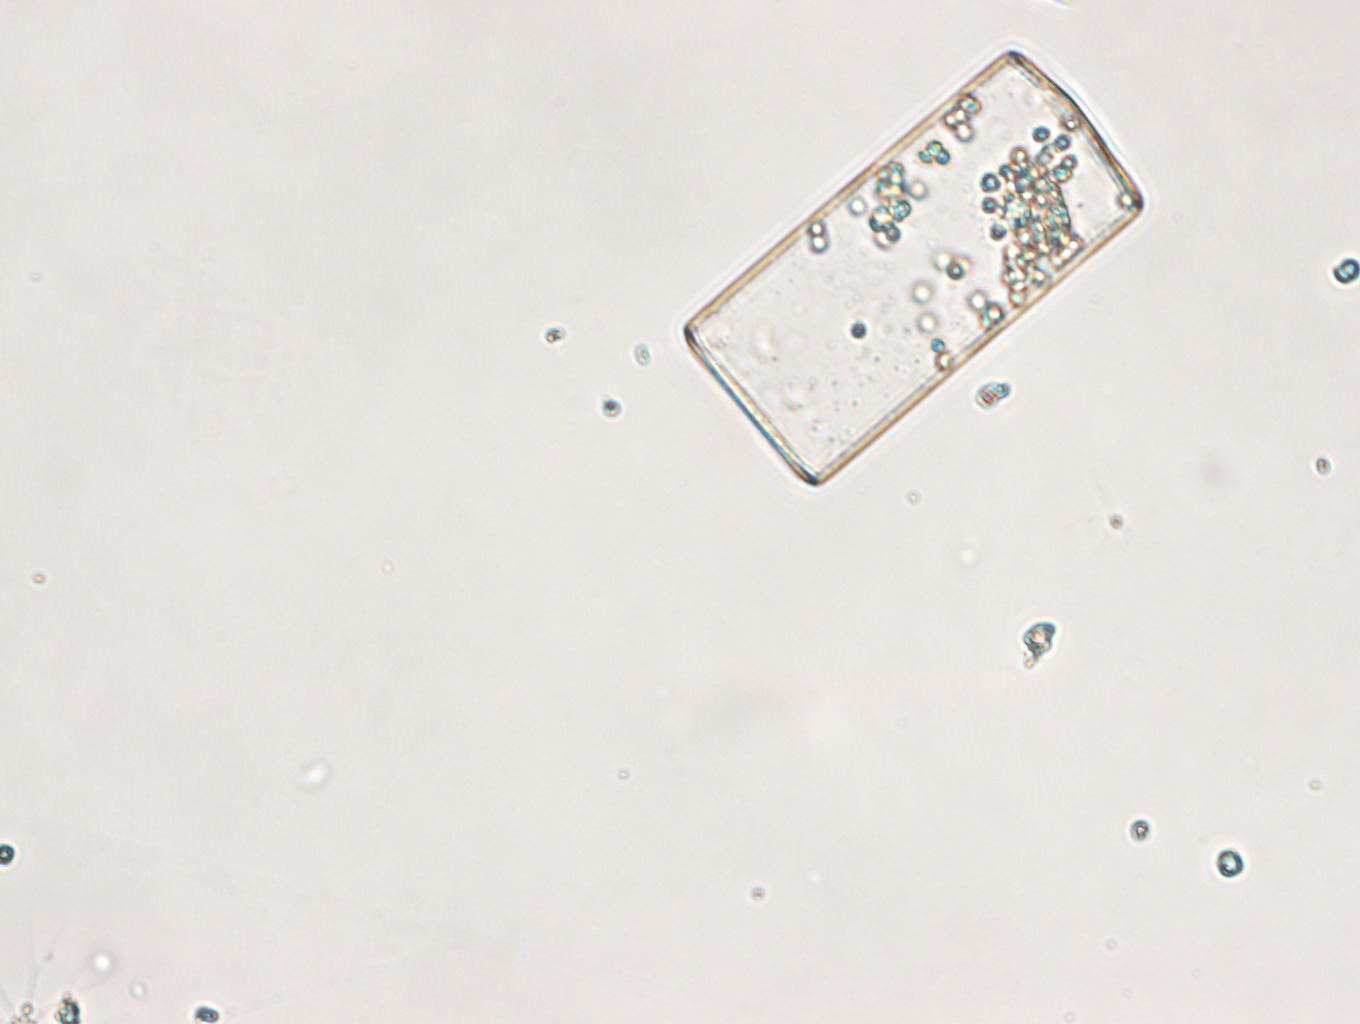guinardia flaccida: (684, 46, 1150, 490)
